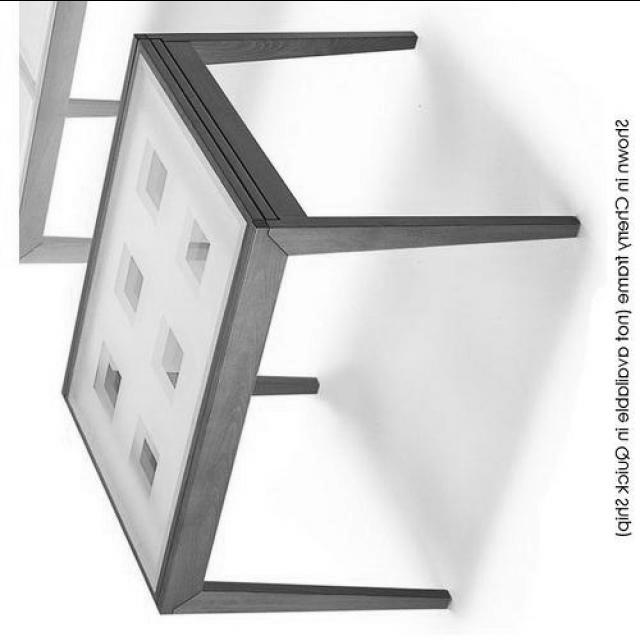table: (61, 33, 576, 616)
